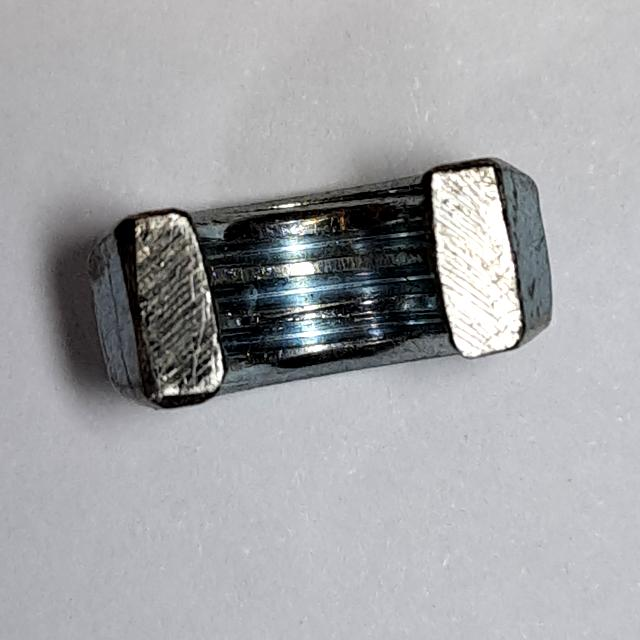Side-Fracture: (77, 126, 566, 427)
